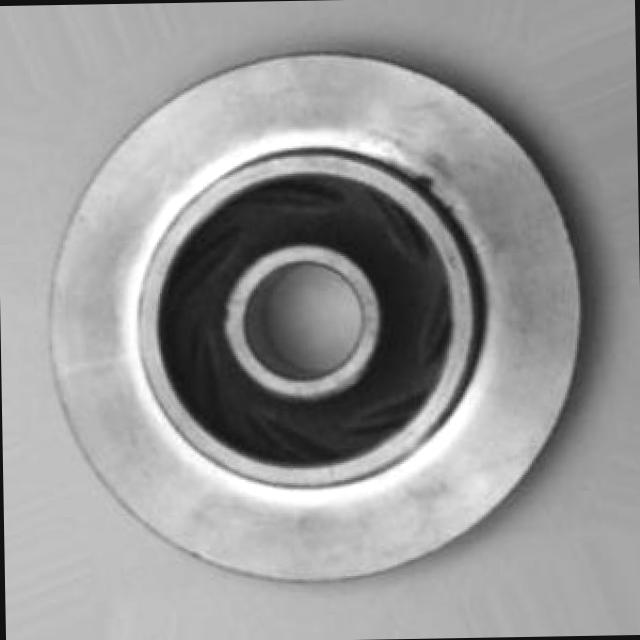Defect: (409, 164, 444, 200)
